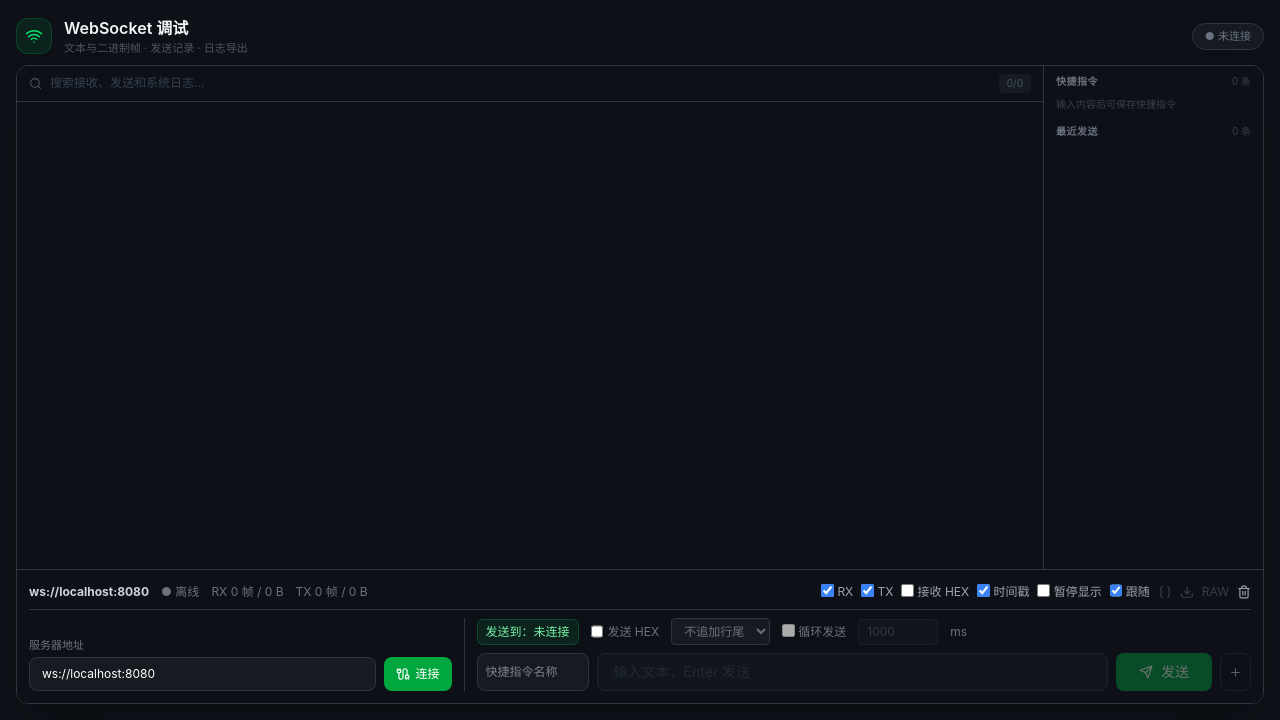
WebSocketDebugger independent transport › connects and exchanges text frames without external project state
Click the button "连接" at (418, 674), box 384,657 -> 452,691
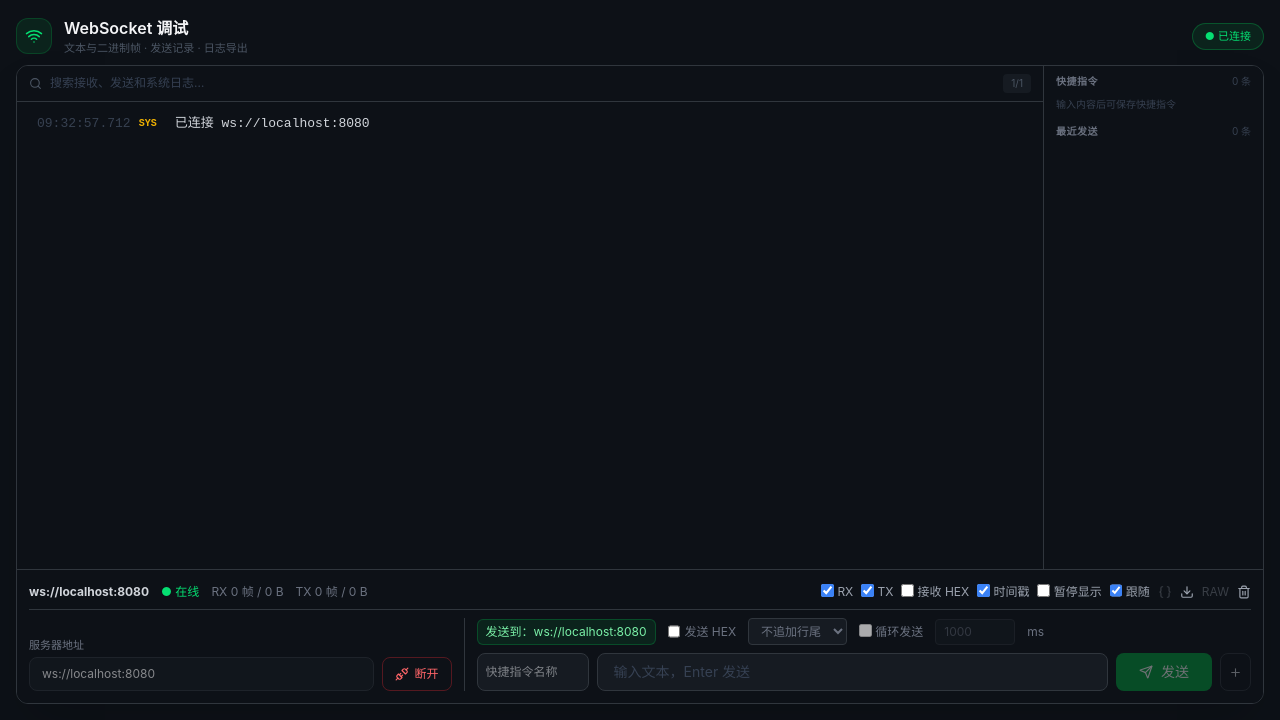
Check: the text "● 已连接" is shown, box 1192,23 -> 1264,50
Type "hello" into the field with placeholder "输入文本，Enter 发送" at (852, 672), box 597,653 -> 1108,691
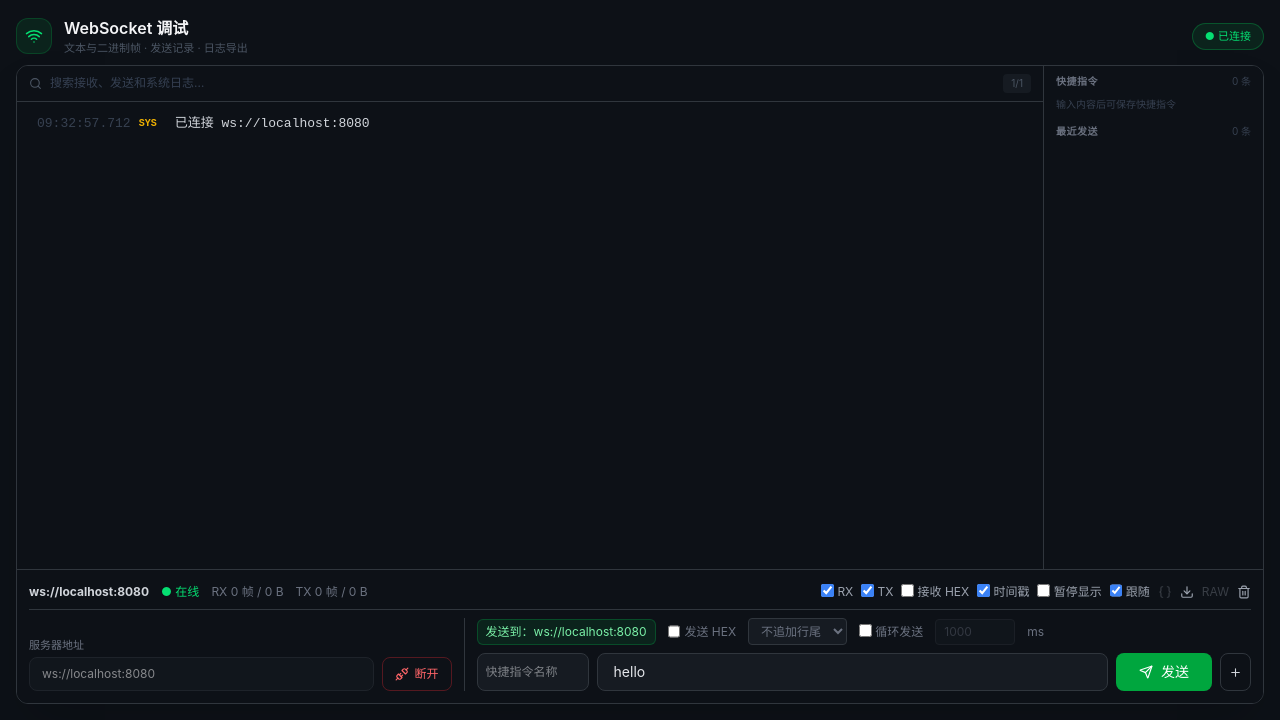
Click the button "发送" at (1164, 672), box 1116,653 -> 1212,691
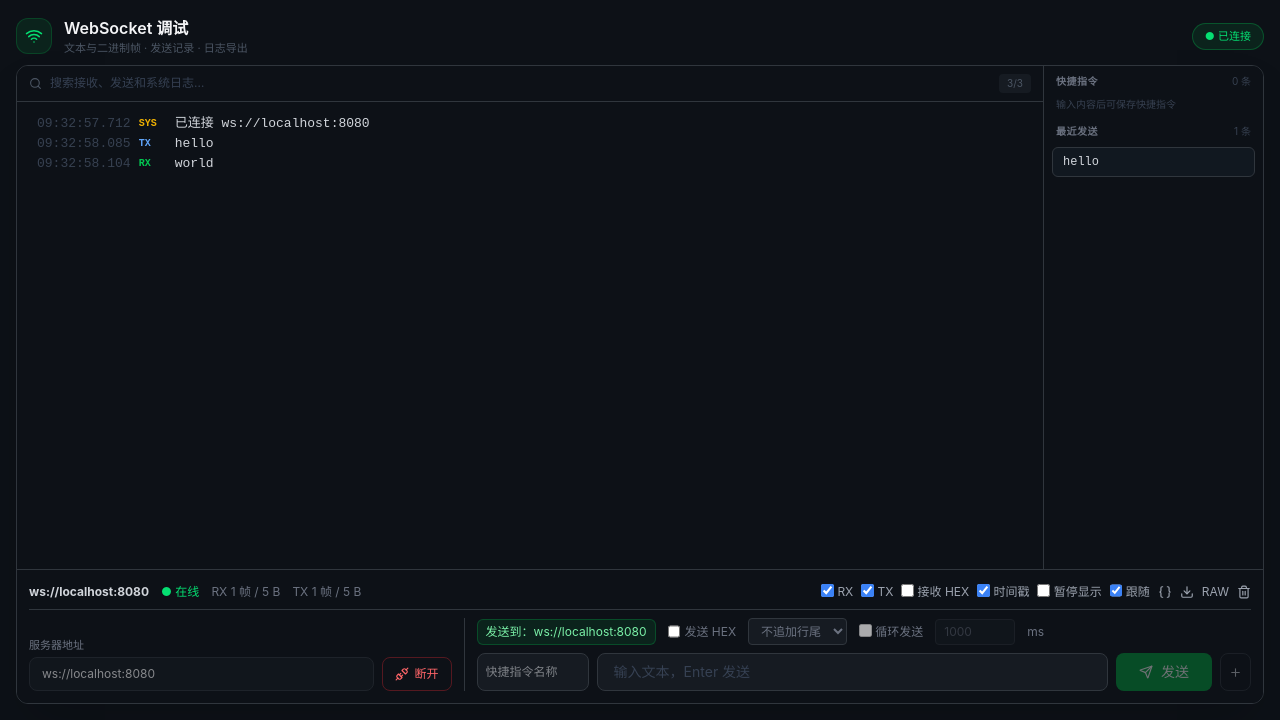
Check: the text "TX 1 帧 / 5 B" is shown, box 292,584 -> 361,600
Check: the text "world" is shown, box 175,154 -> 214,174
Check: the text "RX 1 帧 / 5 B" is shown, box 211,584 -> 280,600
